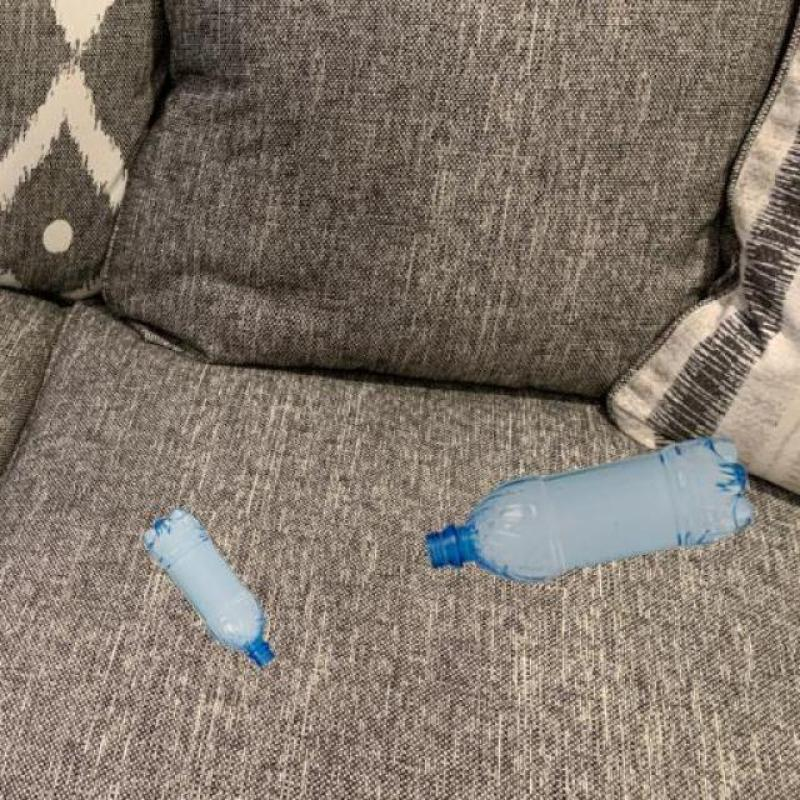botella: (424, 435, 756, 577), (143, 508, 274, 668)
